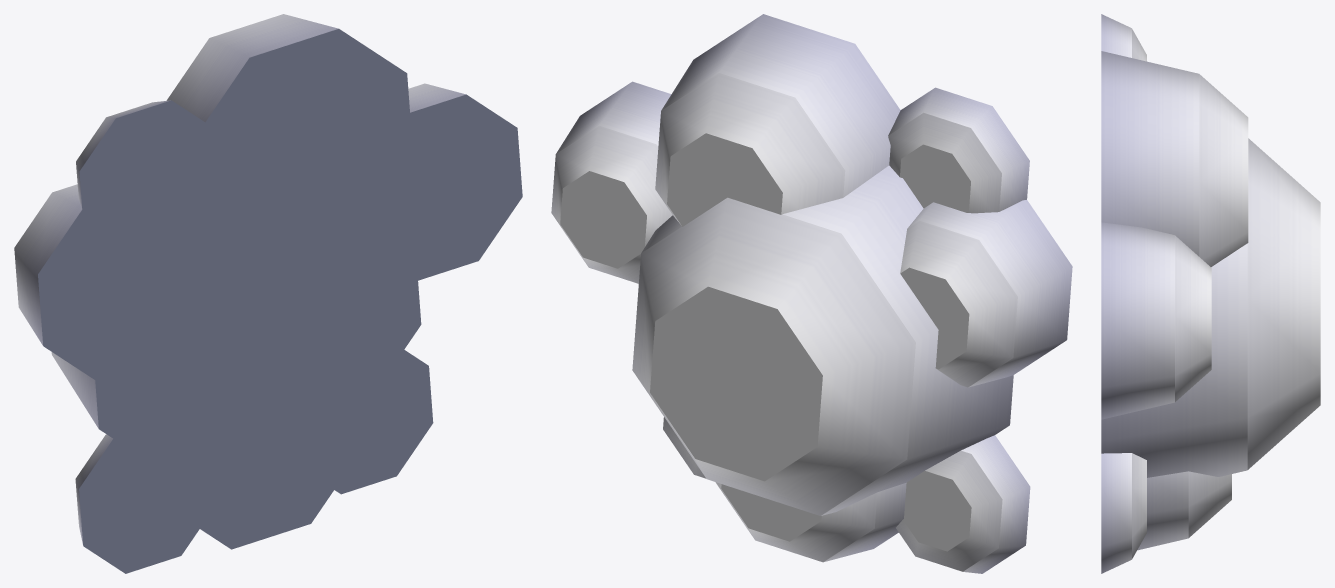
The model's file is cargo-pile-b.obj.
3 renders of one model, left to right at view 1: azimuth 30°, elevation 25°; view 2: azimuth 150°, elevation 25°; view 3: azimuth 270°, elevation 25°, orthographic. The views are drawn at different scales.
Parts seen in each view (by area): view 1: cargo-pile-b.001; view 2: cargo-pile-b.001; view 3: cargo-pile-b.001.
Part boxes in pixels (bbox=[...]): cargo-pile-b.001: bbox=[14, 14, 522, 573]; cargo-pile-b.001: bbox=[551, 14, 1072, 573]; cargo-pile-b.001: bbox=[1101, 14, 1320, 573].
Size of the model in its own units: 3.05 by 2.97 by 1.2.
